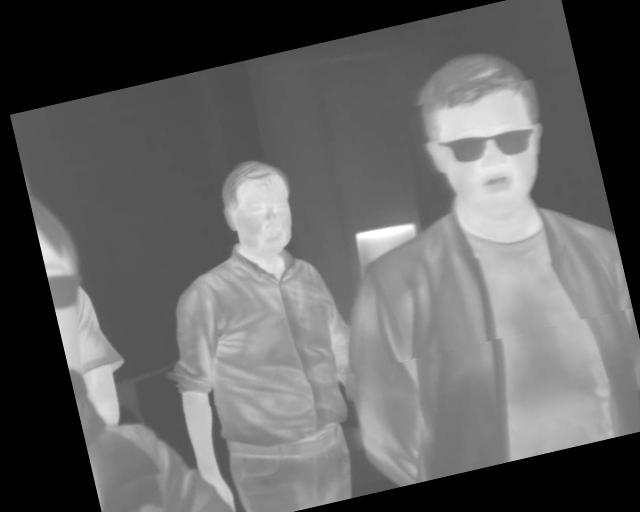face: (406, 39, 562, 230), (212, 151, 304, 262)
